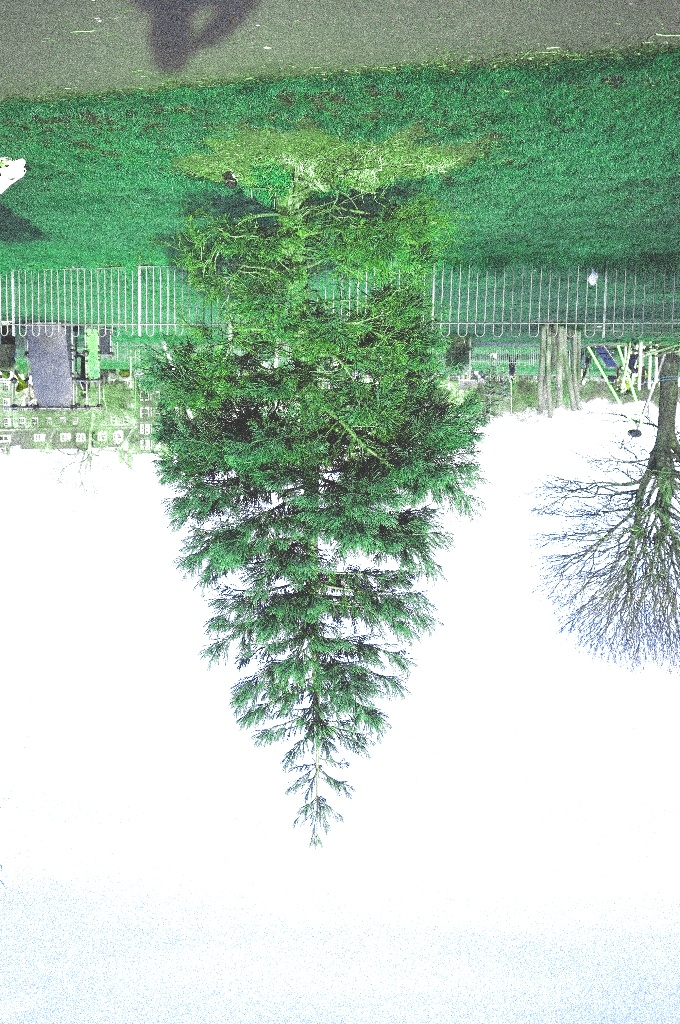Tree: (102, 132, 542, 891), (525, 345, 680, 727)
